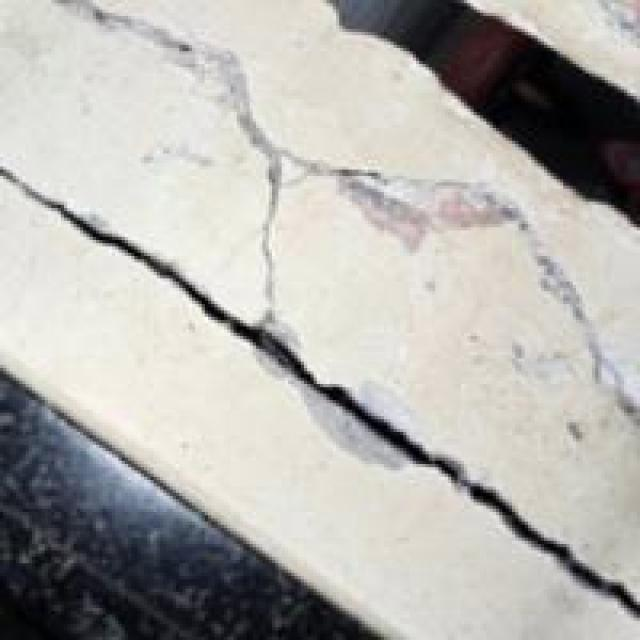Crack: (320, 316, 640, 640), (0, 122, 326, 386)
